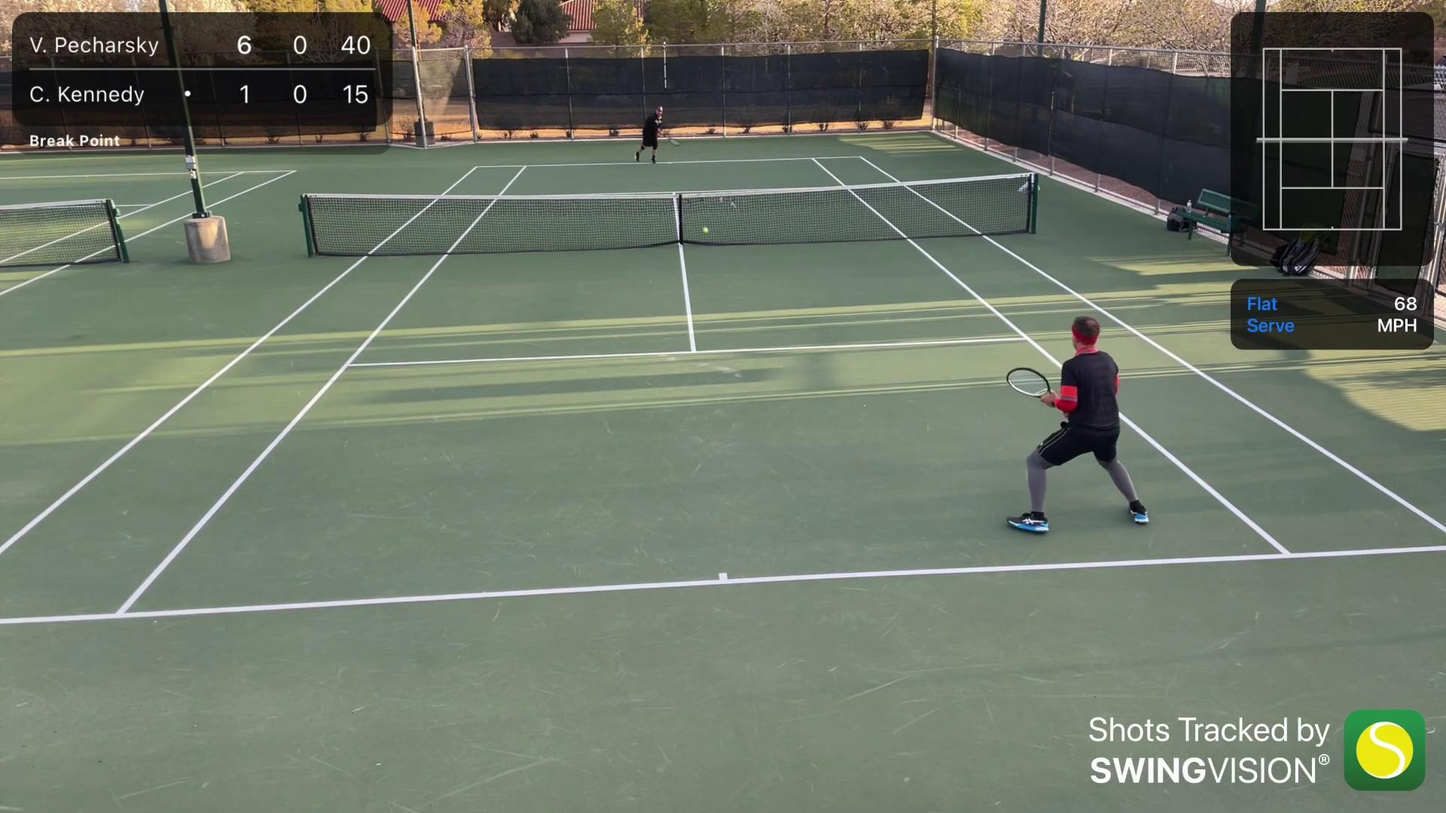ball: (703, 229, 709, 234)
